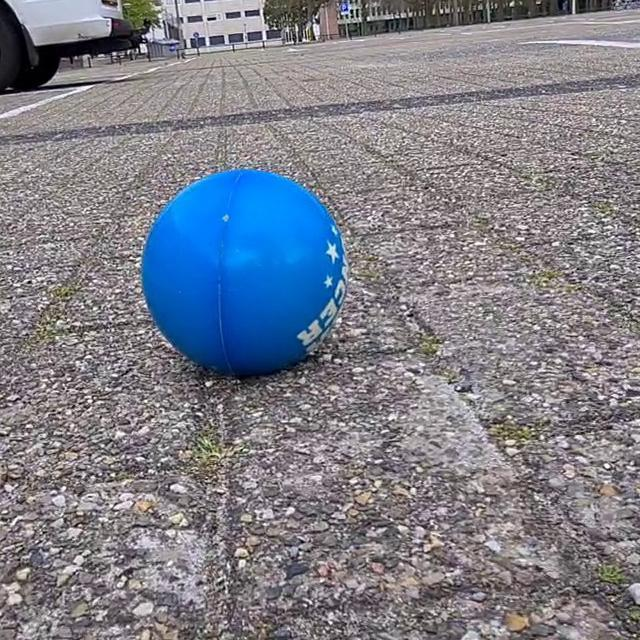ball: (135, 165, 300, 378)
